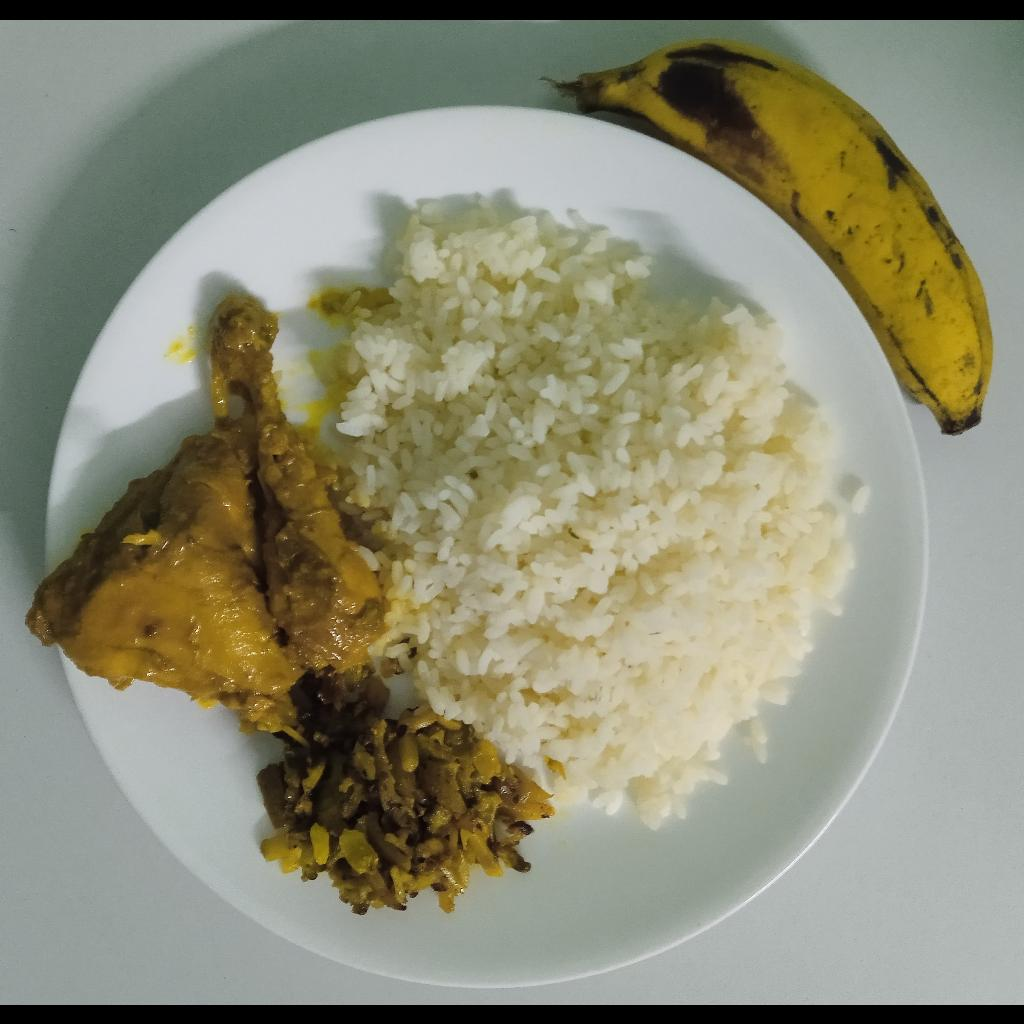banana: (577, 37, 992, 434)
chicken: (26, 296, 391, 734)
rice: (310, 193, 853, 832)
vegetable: (257, 668, 555, 915)
